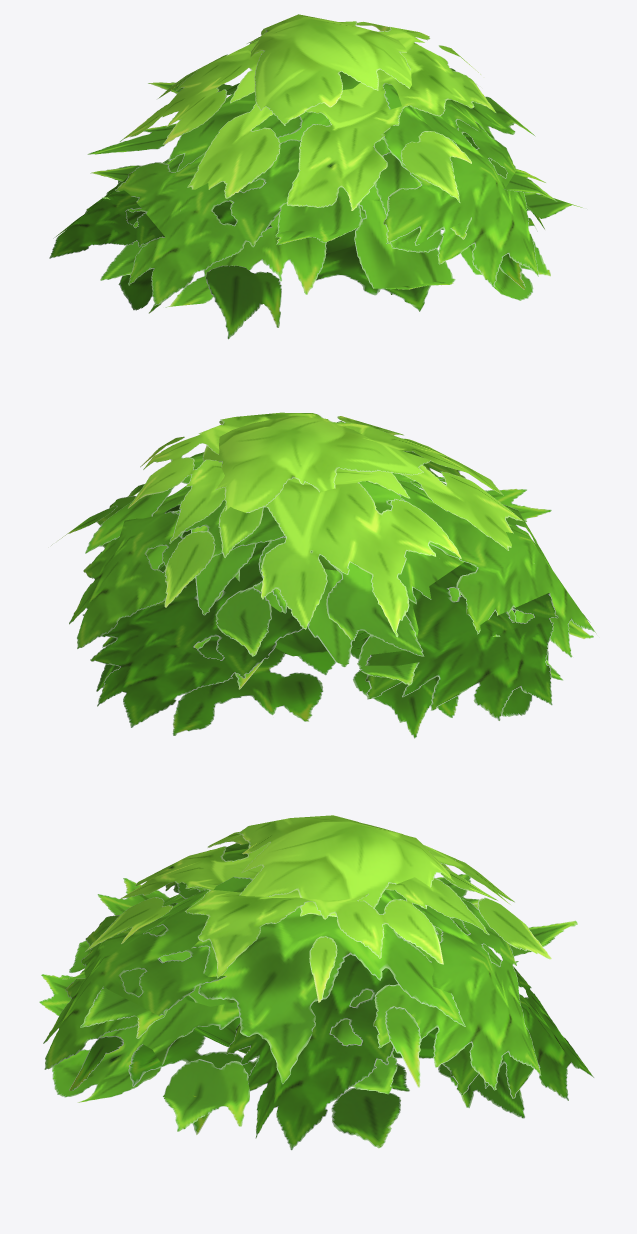
Rendered from bush_big.dae.
3 views of the same model, one above another, from view 1: azimuth 30°, elevation 25°; view 2: azimuth 150°, elevation 25°; view 3: azimuth 270°, elevation 25° (orthographic). The views are drawn at different scales.
Visible parts, largest first — view 1: bush_green_big; view 2: bush_green_big; view 3: bush_green_big.
Boxes of the visible parts, x1,y1,x2,y2 form: bush_green_big: [49, 14, 582, 339]; bush_green_big: [51, 412, 596, 738]; bush_green_big: [39, 815, 594, 1150].
Size of the model in its own units: 0.9127 by 0.8594 by 0.4456.
Materials: 1 (1 with a texture image).
